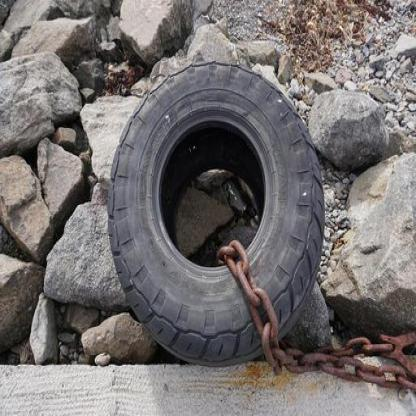Tire: (106, 61, 327, 366)
